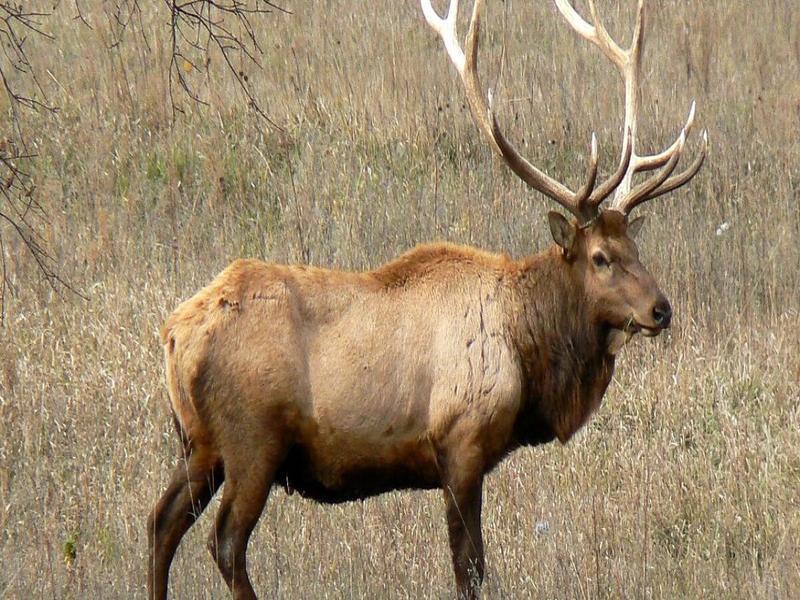elk: (147, 3, 710, 600)
